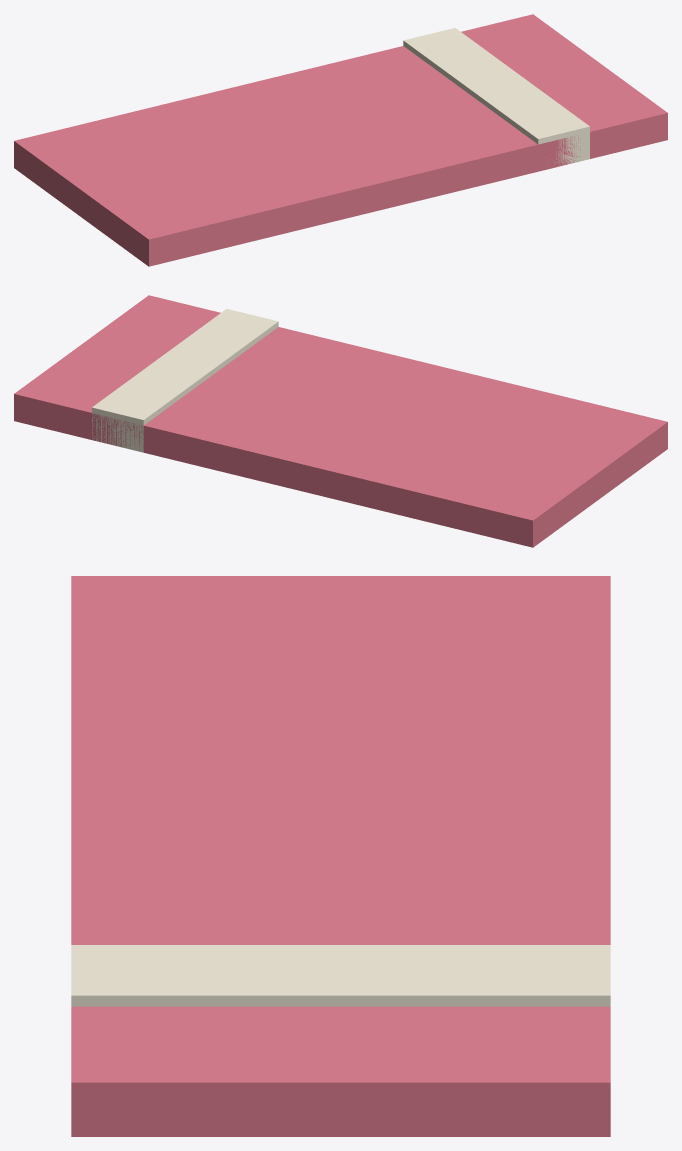
The model's file is prop_ticket.glb.
The picture shows the model from 3 angles, top to bottom: view 1: azimuth 30°, elevation 25°; view 2: azimuth 150°, elevation 25°; view 3: azimuth 270°, elevation 25°; orthographic projection. The views are drawn at different scales.
Parts seen in each view (by area): view 1: Ticket; view 2: Ticket; view 3: Ticket.
Part boxes in pixels (x1,y1,x2,y2): Ticket: (14,14,667,266); Ticket: (14,295,667,547); Ticket: (71,576,610,1136).
Bounding box in the file's own units: 0.2 × 0.012 × 0.09.
